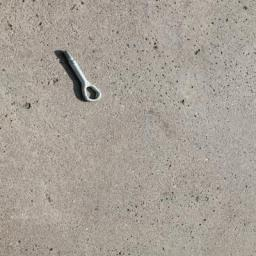FOD: (54, 47, 106, 105)
